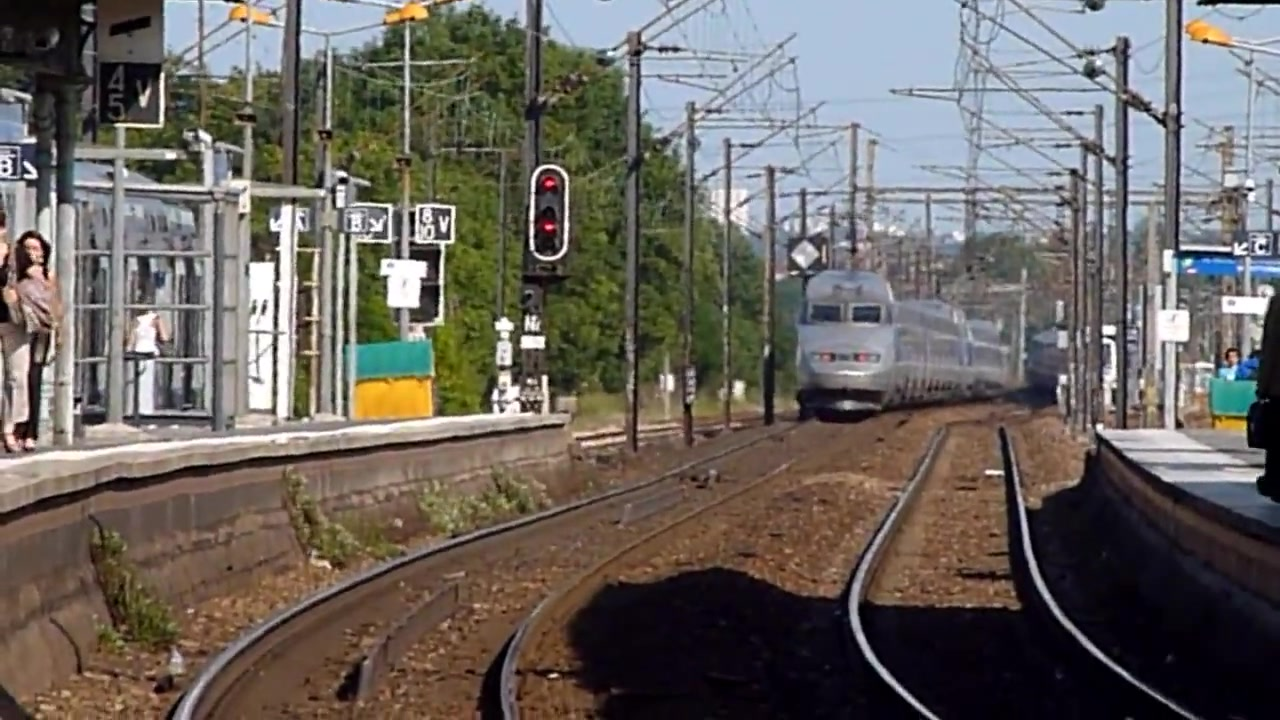train: (791, 268, 1016, 418)
